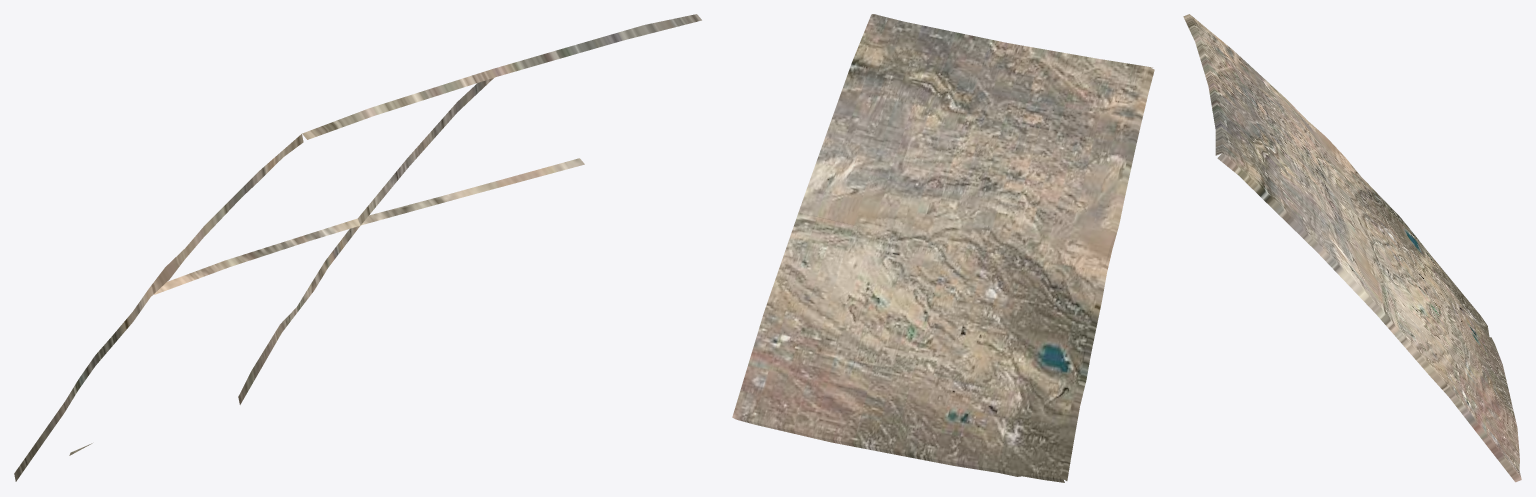
3 renders of one model, left to right at view 1: azimuth 30°, elevation 25°; view 2: azimuth 150°, elevation 25°; view 3: azimuth 270°, elevation 25°, orthographic. The views are drawn at different scales.
Bounding box in the file's own units: 1053045 × 982985 × 906601.
Materials: 1 (1 with a texture image).
